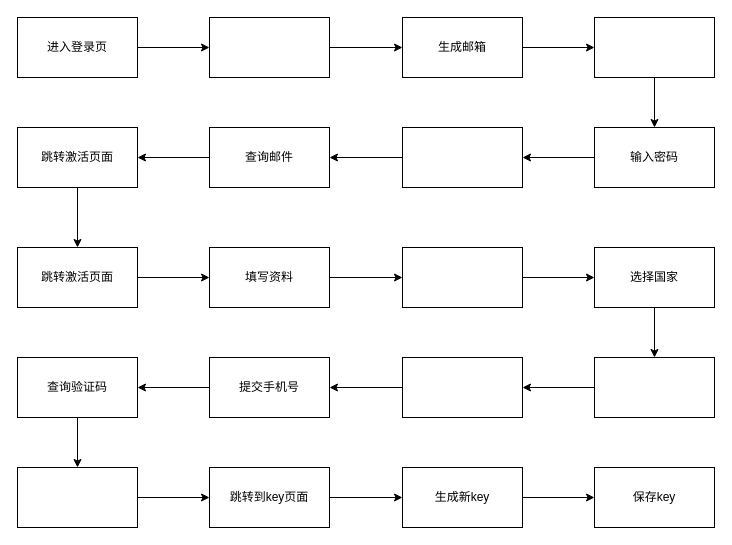
This 732x545 diagram has some shape labels left out. The centre of each missing label's shape, as x and y in pixels:
"填写验证码" goes at (x=77, y=497).
"提交账号" goes at (x=462, y=157).
"提交资料" goes at (x=462, y=277).
"生成手机号" goes at (x=654, y=387).
"跳转注册页" goes at (x=269, y=47).
"输入手机号" goes at (x=462, y=387).
"输入邮箱" goes at (x=654, y=47).
